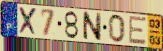0: (108, 14, 128, 44)
7: (39, 8, 57, 38)
8: (64, 11, 79, 40)
E: (128, 15, 148, 46)
N: (82, 11, 103, 42)
X: (18, 6, 38, 37)
